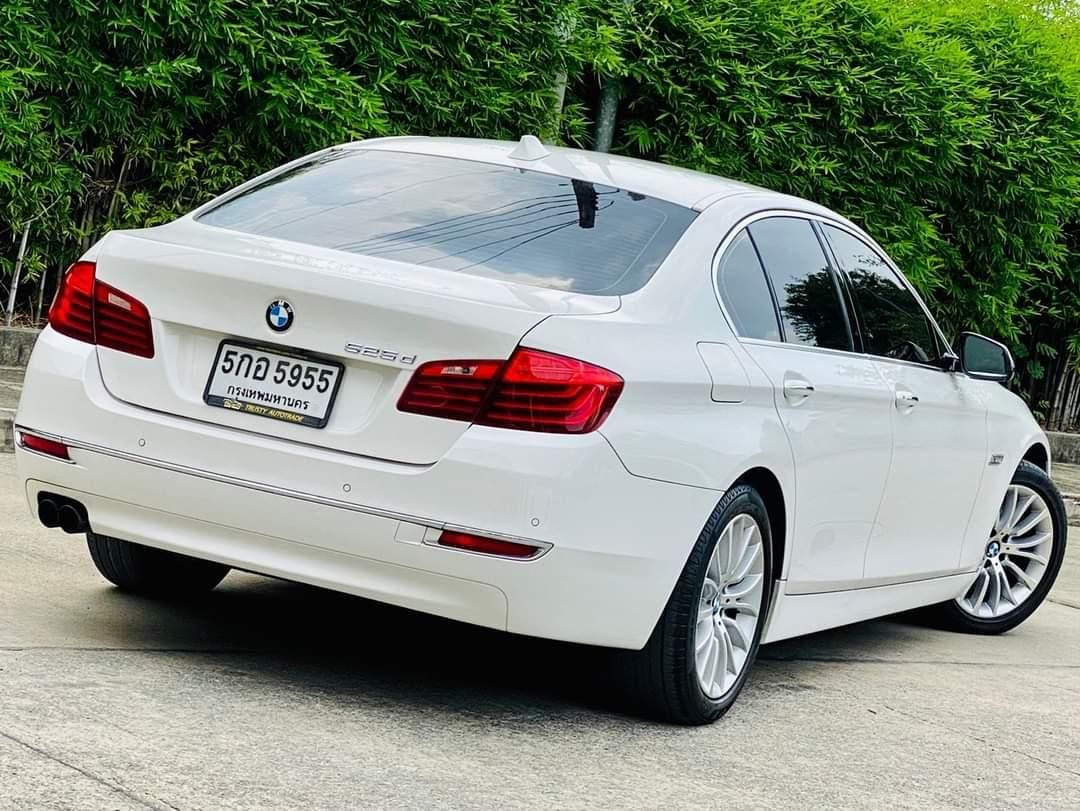license-plate: (197, 330, 349, 434)
